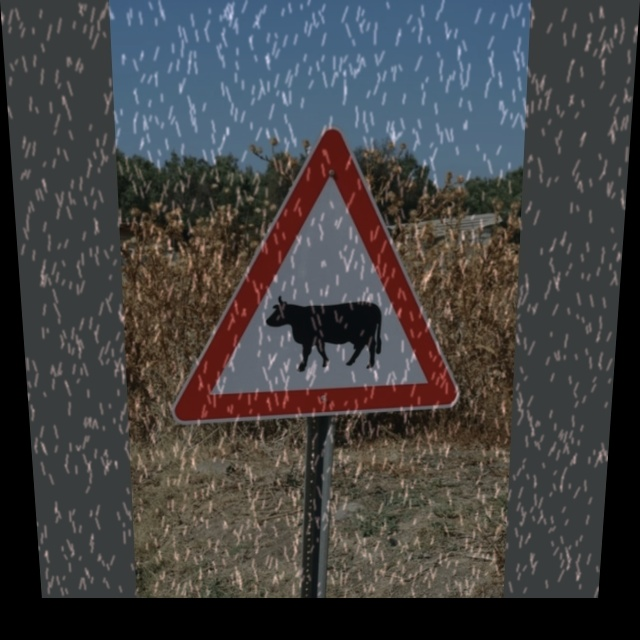Cattle: (178, 132, 471, 423)
